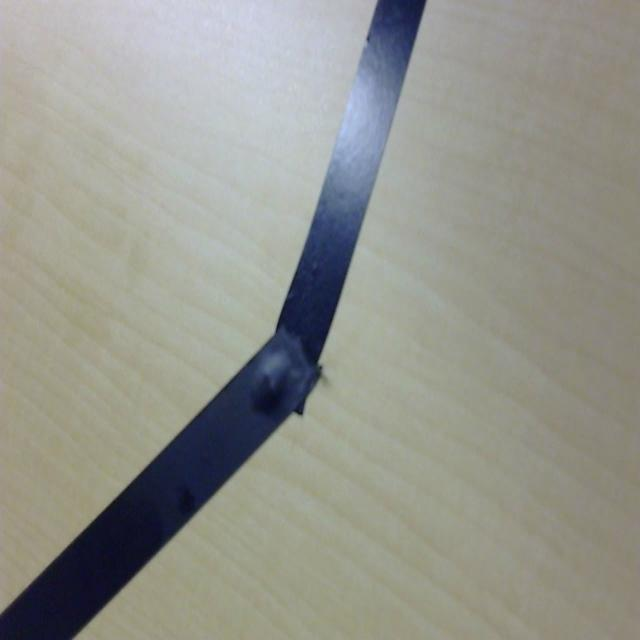tape: (0, 0, 446, 640)
